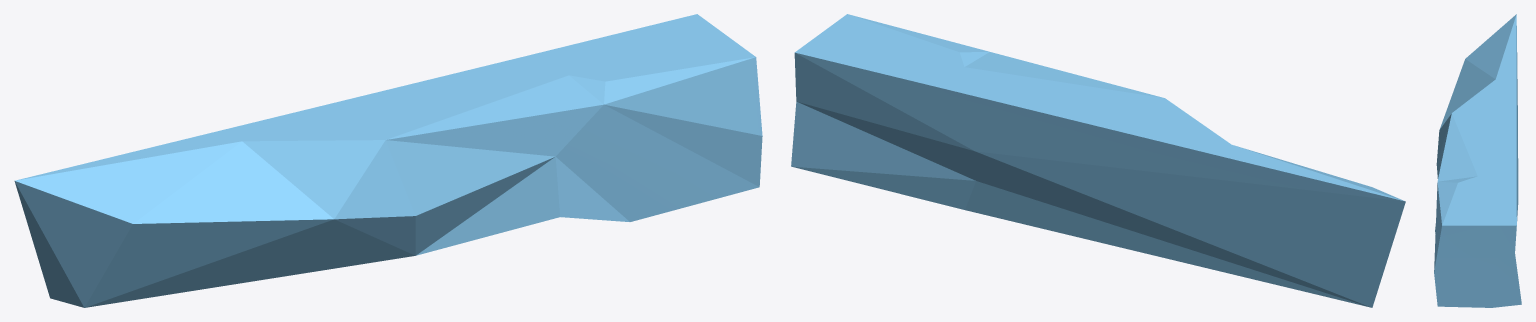
File: sp_rock03.glb
The picture shows the model from 3 angles, left to right: view 1: azimuth 30°, elevation 25°; view 2: azimuth 150°, elevation 25°; view 3: azimuth 270°, elevation 25°; orthographic projection. The views are drawn at different scales.
Parts seen in each view (by area): view 1: SP_Rock03; view 2: SP_Rock03; view 3: SP_Rock03.
Part boxes in pixels (x1,y1,x2,y2): SP_Rock03: (14,14,762,307); SP_Rock03: (791,14,1405,307); SP_Rock03: (1434,14,1521,307).
Size of the model in its own units: 358 by 67.21 by 62.83.
1 material, 1 textured.
